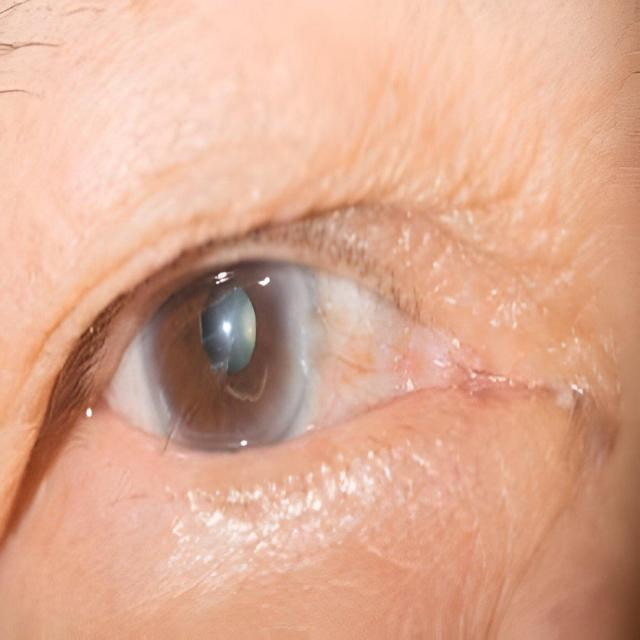Cataract: (122, 236, 328, 468)
